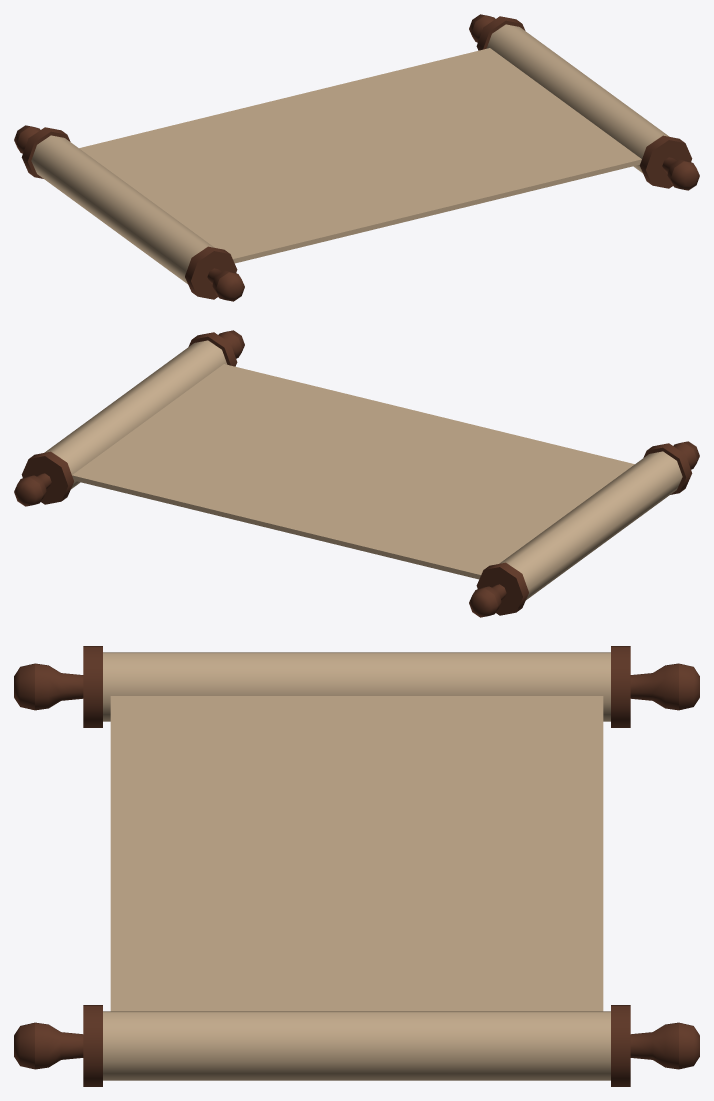
File: Scroll_01_Open.fbx
The picture shows the model from 3 angles, top to bottom: view 1: azimuth 30°, elevation 25°; view 2: azimuth 150°, elevation 25°; view 3: azimuth 270°, elevation 25°; orthographic projection. The views are drawn at different scales.
Visible parts, largest first — view 1: Scroll_01_Open; view 2: Scroll_01_Open; view 3: Scroll_01_Open.
Boxes of the visible parts, x1,y1,x2,y2 form: Scroll_01_Open: [14, 14, 699, 301]; Scroll_01_Open: [14, 330, 699, 617]; Scroll_01_Open: [14, 646, 699, 1086].
Size of the model in its own units: 0.5404 by 0.0502 by 0.3958.
